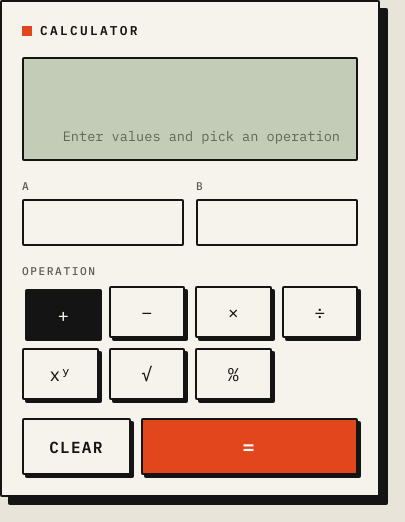
Scenario: Calculator › hides the second input for square root and sends a single operand
The image size is (405, 522).
Step 1. Click the button named "Square root" → (147,374), box [108,348,185,400]
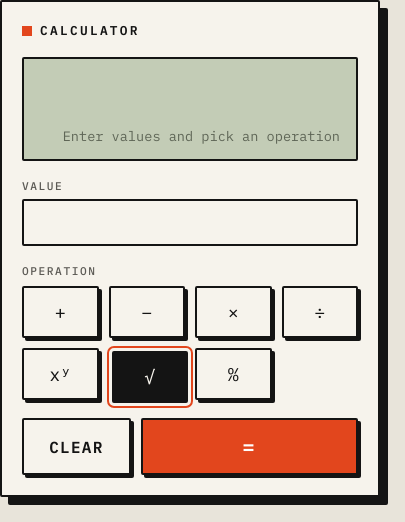
Result: the label labelled "B" is gone
Step 2. Type "16" into the field labelled "Value" → (190,222), box [22,199,358,246]
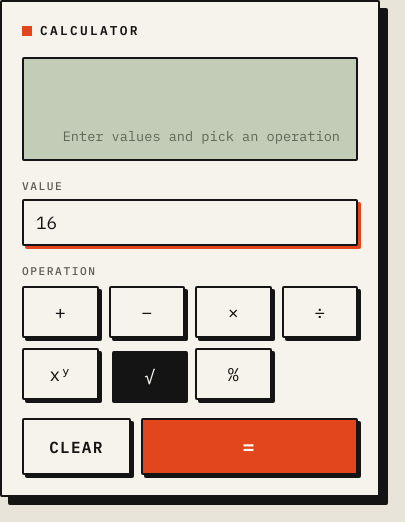
Step 3. Click the button "=" → (249,446), box [141,418,358,475]
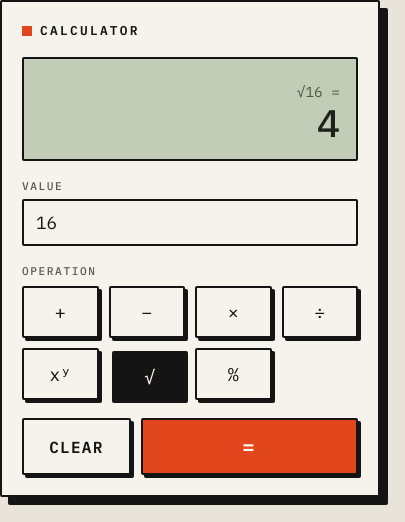
Result: the text "√16 =" is shown at [297,82,340,101]
